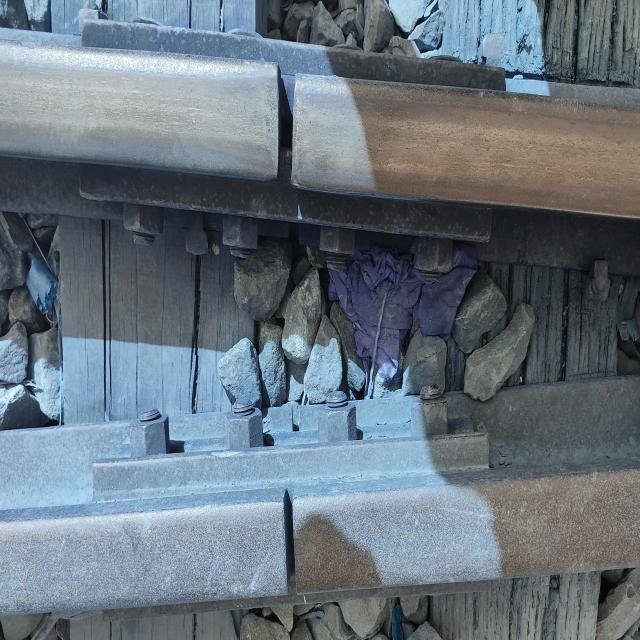Good Joint: (72, 15, 521, 280), (86, 414, 528, 591)
